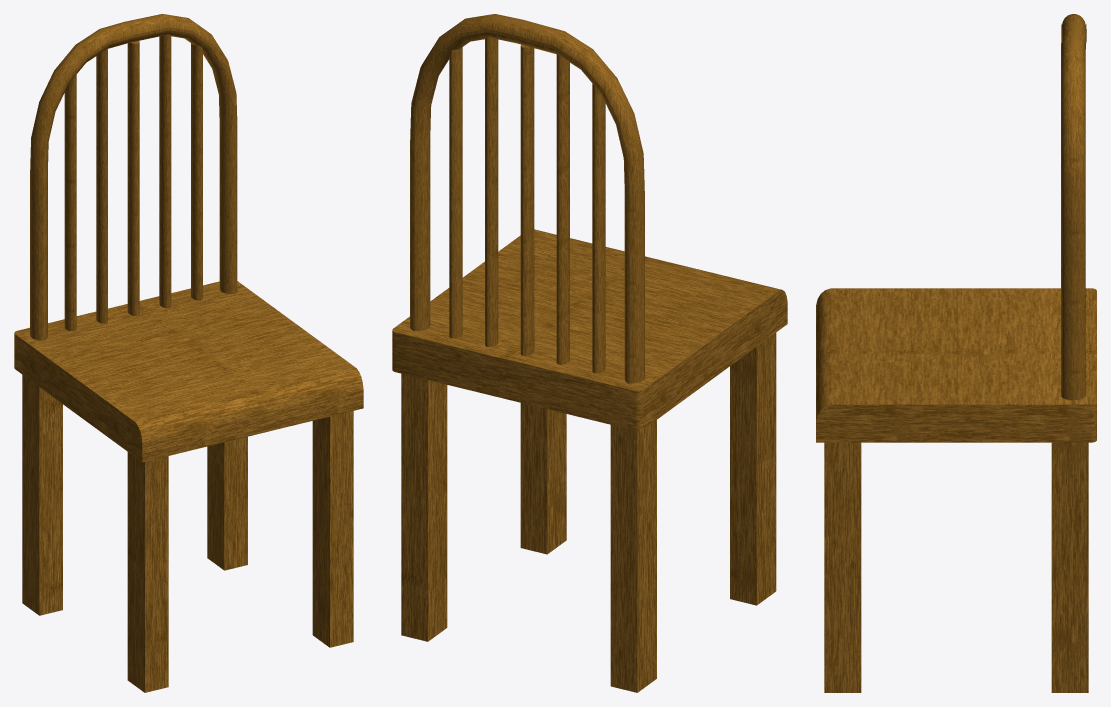
The model's file is Chair.FBX.
3 views of the same model, side by side, from view 1: azimuth 30°, elevation 25°; view 2: azimuth 150°, elevation 25°; view 3: azimuth 270°, elevation 25° (orthographic). The views are drawn at different scales.
Visible parts, largest first — view 1: Box001; view 2: Box001; view 3: Box001.
Boxes of the visible parts, box(x1,y1,x2,y2) form: Box001: box(14, 14, 363, 692); Box001: box(392, 14, 787, 692); Box001: box(816, 14, 1096, 692).
Size of the model in its own units: 23.26 by 56.44 by 23.7.
1 material, 1 textured.
